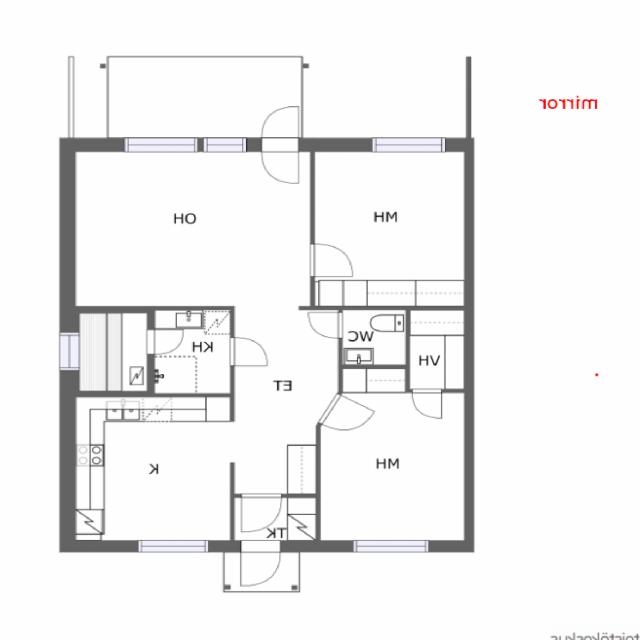door: (318, 392, 376, 440), (241, 540, 280, 586), (261, 138, 299, 184), (261, 106, 299, 152), (241, 493, 282, 532), (310, 244, 352, 276), (230, 337, 268, 365), (412, 388, 442, 418), (308, 312, 342, 338), (147, 330, 183, 354)
